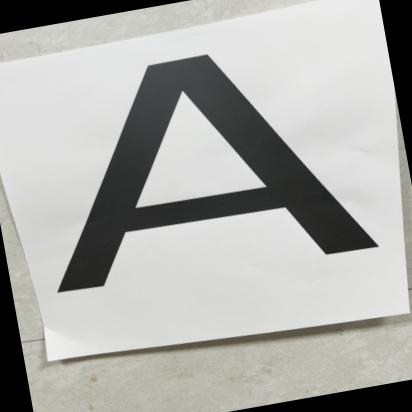seat: (3, 27, 396, 356)
